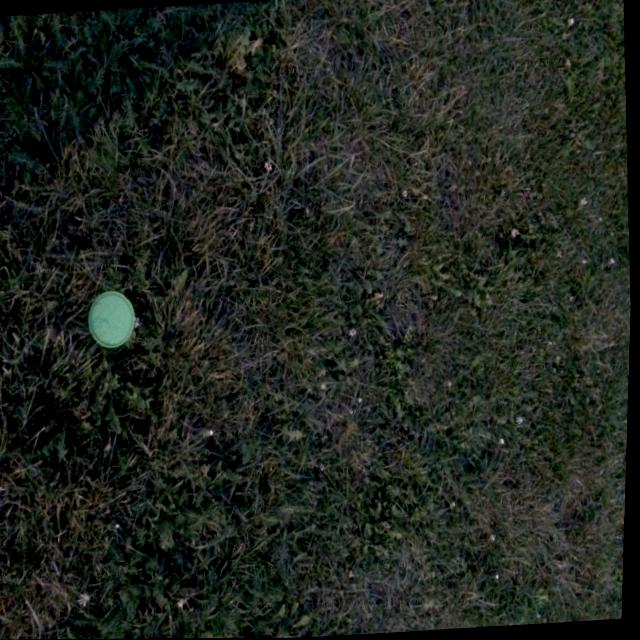Plastic: (85, 286, 142, 355)
